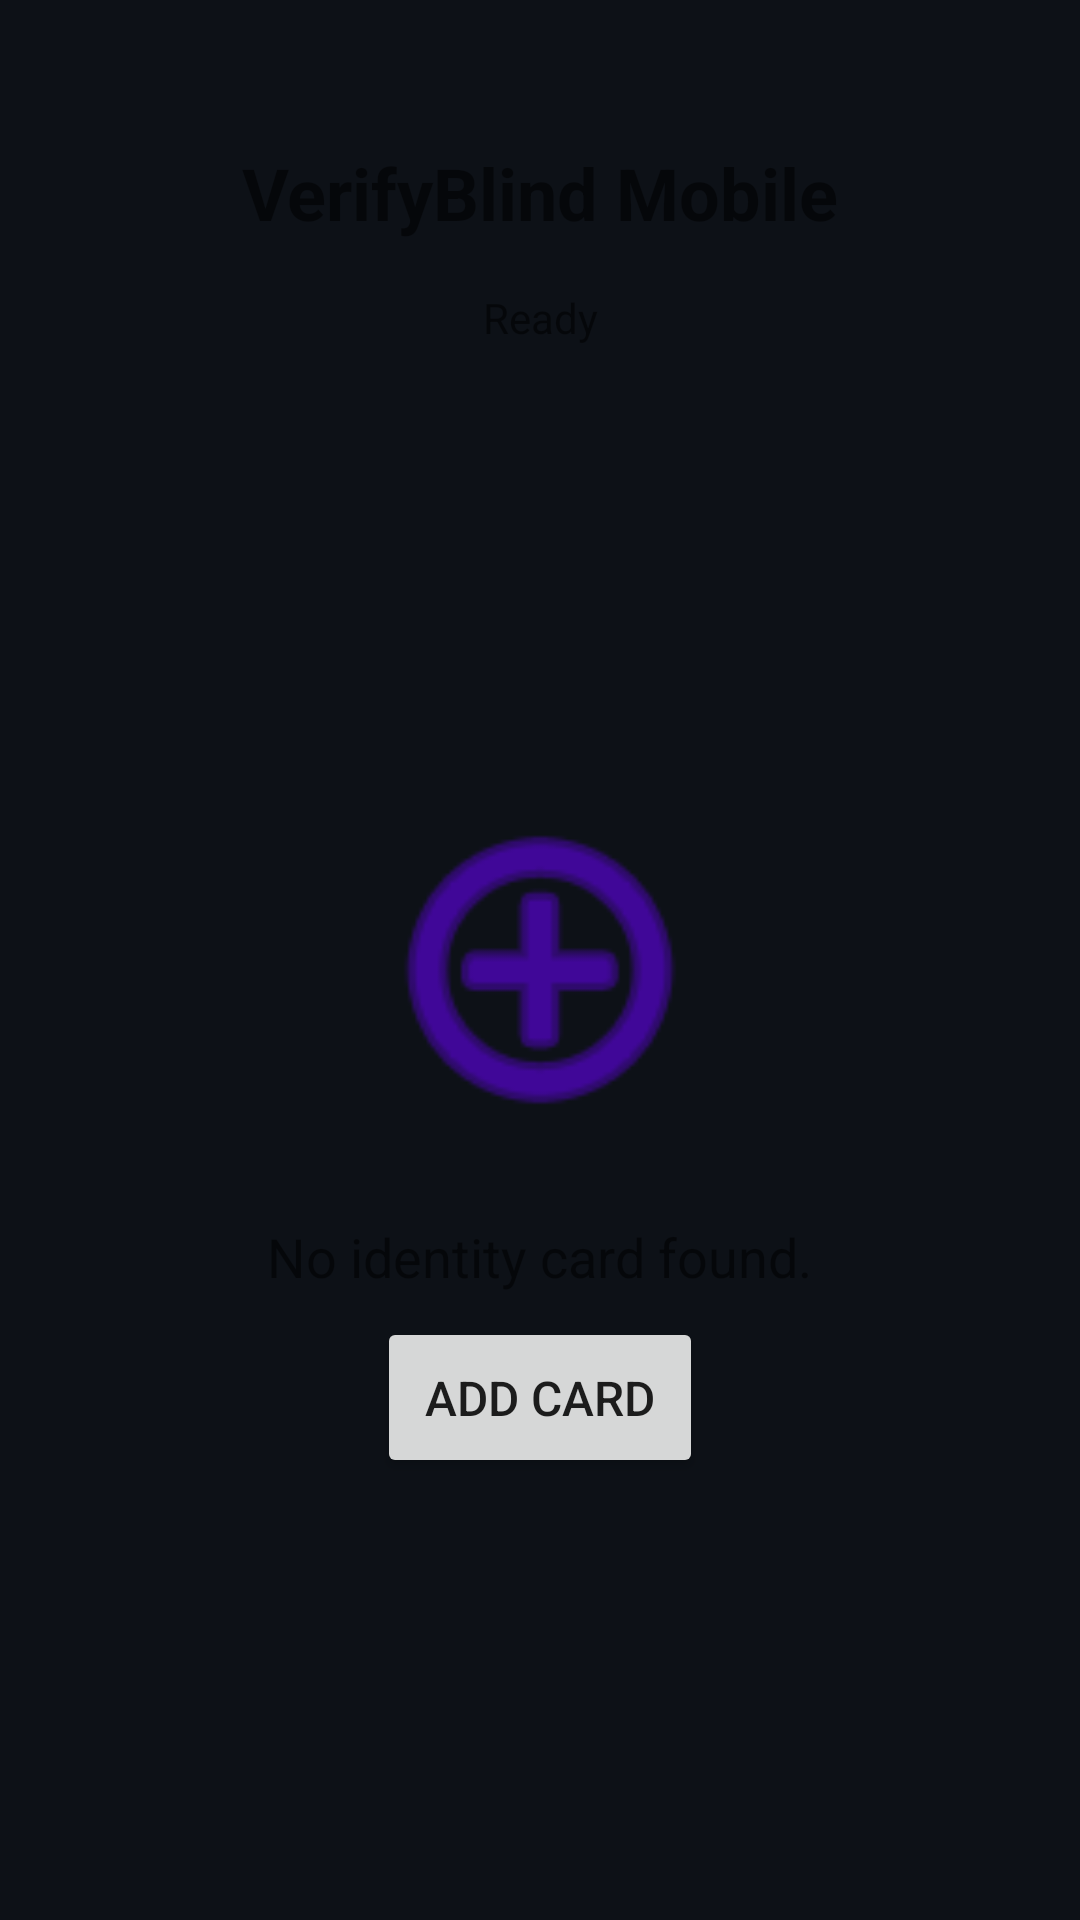

Icons on this 1080w x 1920h Android screen, each with its box as bbox=[x1, y1, x2, y2]:
add: bbox=[406, 836, 674, 1104]
